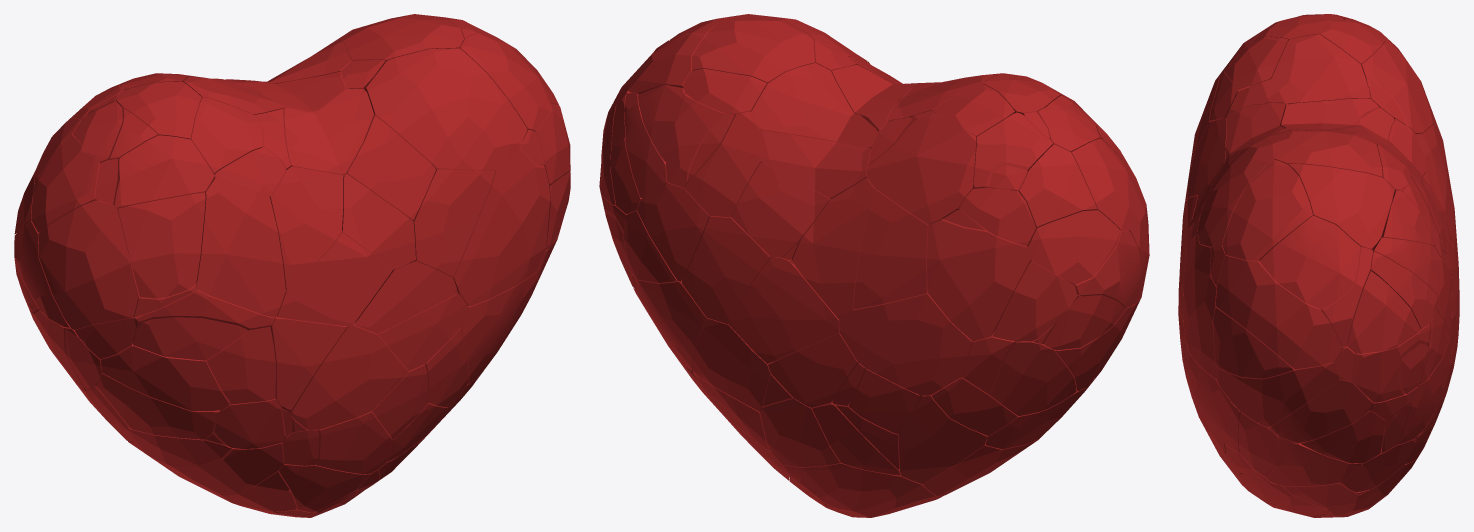
File: HeartBroken.fbx
3 views of the same model, side by side, from view 1: azimuth 30°, elevation 25°; view 2: azimuth 150°, elevation 25°; view 3: azimuth 270°, elevation 25° (orthographic). The views are drawn at different scales.
Parts seen in each view (by area): view 1: Object_3_cell.133, Object_3_cell.035, Object_3_cell.215, Object_3_cell.136, Object_3_cell.067, Object_3_cell.028, Object_3_cell.121, Object_3_cell.230, Object_3_cell.122, Object_3_cell.169, Object_3_cell.123, Object_3_cell.134 (+42 smaller); view 2: Object_3_cell.114, Object_3_cell.015, Object_3_cell.085, Object_3_cell.043, Object_3_cell.116, Object_3_cell.084, Object_3_cell.151, Object_3_cell.073, Object_3_cell.202, Object_3_cell.110, Object_3_cell.138, Object_3_cell.072 (+45 smaller); view 3: Object_3_cell.100, Object_3_cell.246, Object_3_cell.198, Object_3_cell.224, Object_3_cell.241, Object_3_cell.088, Object_3_cell.130, Object_3_cell.073, Object_3_cell.133, Object_3_cell.162, Object_3_cell.035, Object_3_cell.085 (+50 smaller).
Boxes of the visible parts, bbox=[...] form: Object_3_cell.133: bbox=[363, 48, 527, 169]; Object_3_cell.035: bbox=[452, 136, 550, 306]; Object_3_cell.215: bbox=[38, 200, 138, 329]; Object_3_cell.136: bbox=[196, 175, 285, 317]; Object_3_cell.067: bbox=[118, 192, 205, 298]; Object_3_cell.028: bbox=[291, 320, 408, 429]; Object_3_cell.121: bbox=[277, 231, 394, 326]; Object_3_cell.230: bbox=[269, 166, 343, 290]; Object_3_cell.122: bbox=[409, 167, 495, 276]; Object_3_cell.169: bbox=[284, 88, 373, 174]; Object_3_cell.123: bbox=[111, 135, 214, 210]; Object_3_cell.134: bbox=[101, 343, 230, 410]; Object_3_cell.114: bbox=[839, 291, 971, 395]; Object_3_cell.015: bbox=[927, 219, 1031, 341]; Object_3_cell.085: bbox=[866, 110, 976, 224]; Object_3_cell.043: bbox=[729, 257, 839, 363]; Object_3_cell.116: bbox=[853, 189, 929, 309]; Object_3_cell.084: bbox=[752, 63, 878, 148]; Object_3_cell.151: bbox=[791, 178, 875, 319]; Object_3_cell.073: bbox=[691, 15, 816, 84]; Object_3_cell.202: bbox=[681, 214, 773, 324]; Object_3_cell.110: bbox=[732, 162, 830, 257]; Object_3_cell.138: bbox=[783, 462, 943, 517]; Object_3_cell.072: bbox=[759, 129, 870, 198]; Object_3_cell.100: bbox=[1215, 255, 1342, 369]; Object_3_cell.246: bbox=[1259, 215, 1359, 309]; Object_3_cell.198: bbox=[1222, 159, 1312, 260]; Object_3_cell.224: bbox=[1287, 164, 1394, 249]; Object_3_cell.241: bbox=[1271, 34, 1370, 104]; Object_3_cell.088: bbox=[1216, 362, 1339, 427]; Object_3_cell.130: bbox=[1347, 271, 1420, 353]; Object_3_cell.073: bbox=[1274, 130, 1382, 177]; Object_3_cell.133: bbox=[1197, 131, 1287, 246]; Object_3_cell.162: bbox=[1269, 380, 1372, 442]; Object_3_cell.035: bbox=[1183, 244, 1219, 378]; Object_3_cell.085: bbox=[1361, 41, 1434, 133].
Size of the model in its own units: 150 by 124 by 74.56.
